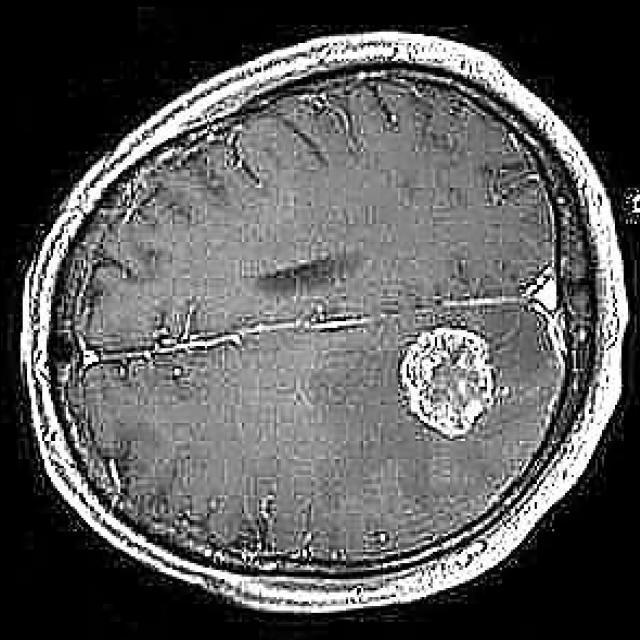tumor: (393, 326, 499, 441)
